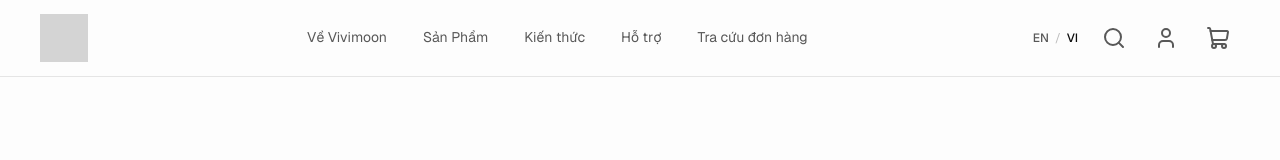
Test: Header › takes the nav out of the accessibility tree while search is open
The width and height of the screenshot is (1280, 160).
Expected: the link "Về Vivimoon" is shown, [307,28,387,46]
Click the button named "Tìm kiếm...".
click(1114, 38)  # box [1092,16,1136,60]
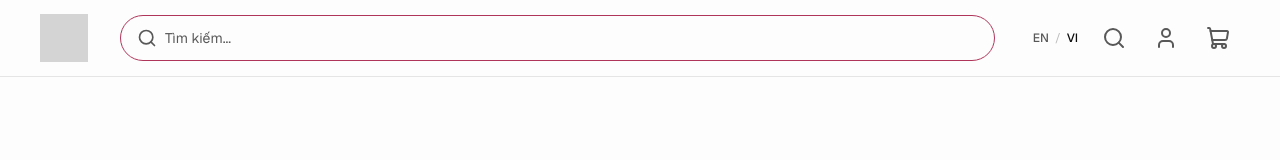
Expected: the field labelled "Tìm kiếm..." is shown, [165,16,978,60]
Expected: the link "Về Vivimoon" is gone
